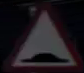Speed Breaker ahead: (9, 5, 74, 65)
